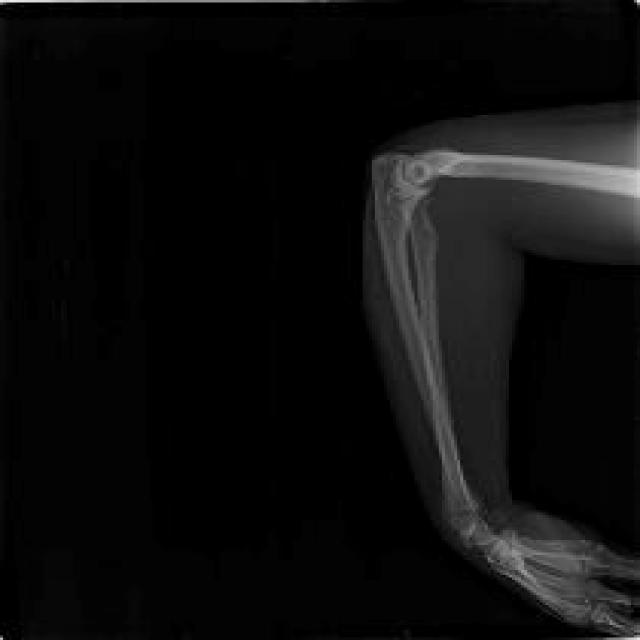normal: (372, 150, 638, 632)
